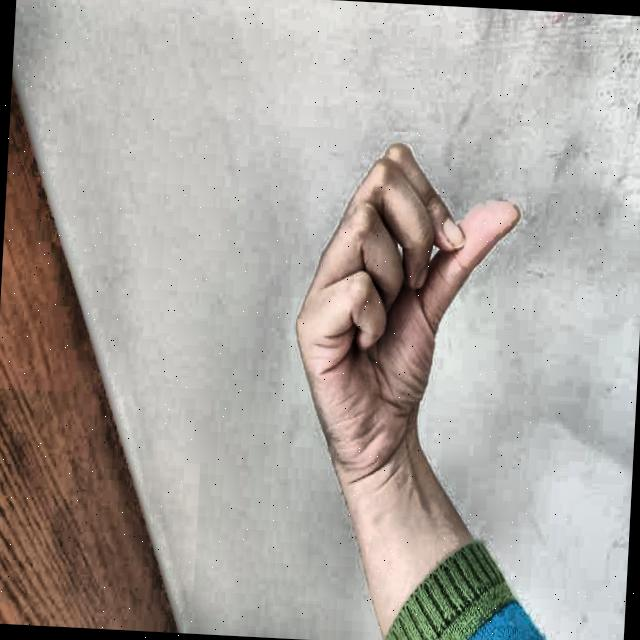Ay: (270, 94, 544, 498)
